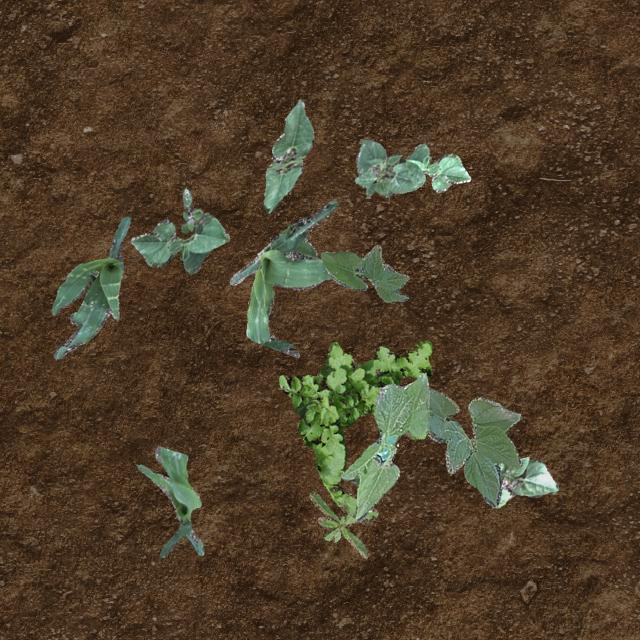crop: (228, 200, 338, 356), (339, 372, 428, 520), (426, 386, 522, 506), (50, 215, 130, 358), (134, 446, 203, 556), (130, 212, 228, 272), (262, 98, 312, 212), (320, 243, 408, 300), (354, 138, 424, 198), (404, 142, 469, 192), (494, 456, 558, 506)
weed: (278, 340, 430, 522), (308, 490, 368, 558), (180, 188, 210, 232)
